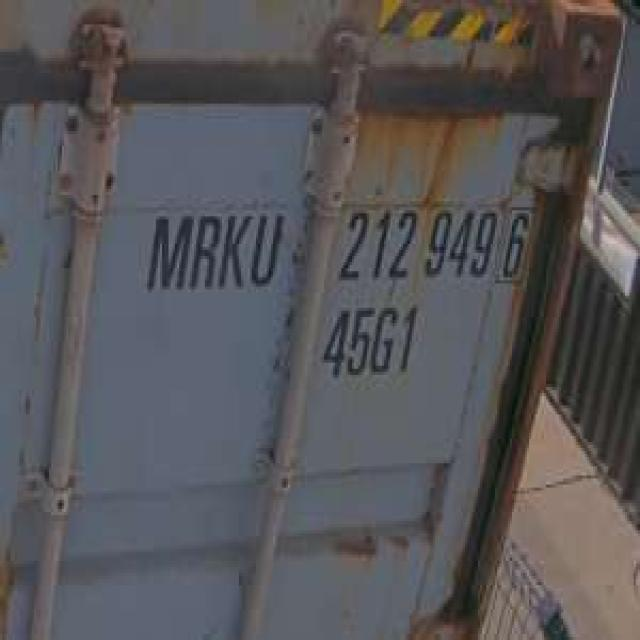dv: (498, 198, 534, 286)
owner: (139, 201, 287, 301)
serial: (333, 198, 499, 286)
size: (322, 295, 423, 388)
